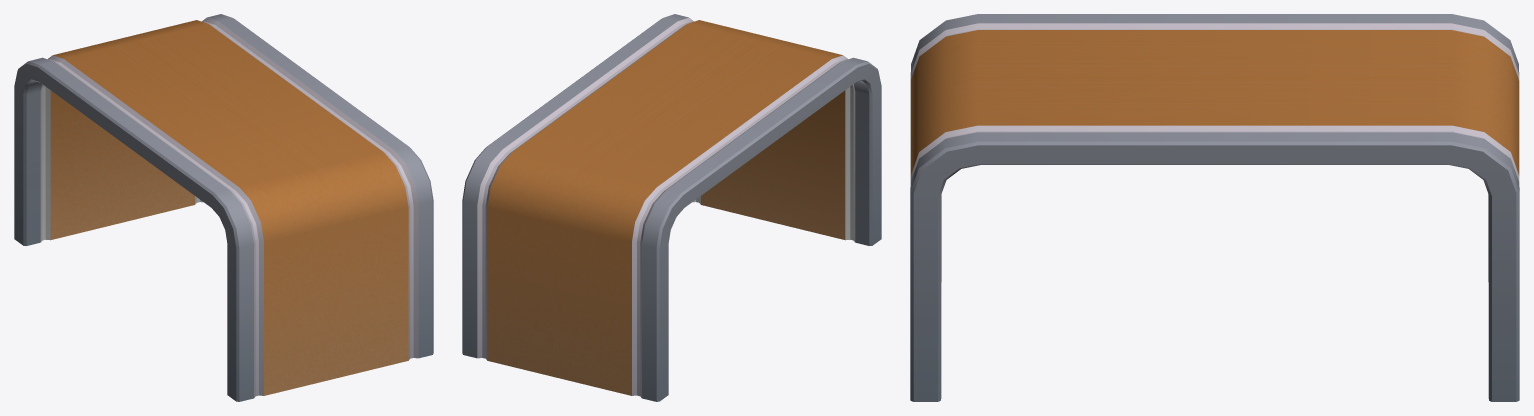
Rendered from Table_4_G.glb.
3 renders of one model, left to right at view 1: azimuth 30°, elevation 25°; view 2: azimuth 150°, elevation 25°; view 3: azimuth 270°, elevation 25°, orthographic. The views are drawn at different scales.
Parts seen in each view (by area): view 1: Table_4_G; view 2: Table_4_G; view 3: Table_4_G.
Part boxes in pixels (x1=…): Table_4_G: x1=14, y1=14, x2=433, y2=401; Table_4_G: x1=462, y1=14, x2=881, y2=401; Table_4_G: x1=910, y1=14, x2=1519, y2=401.
Size of the model in its own units: 0.9495 by 0.8784 by 1.87.
Materials: 2 (2 with a texture image).
